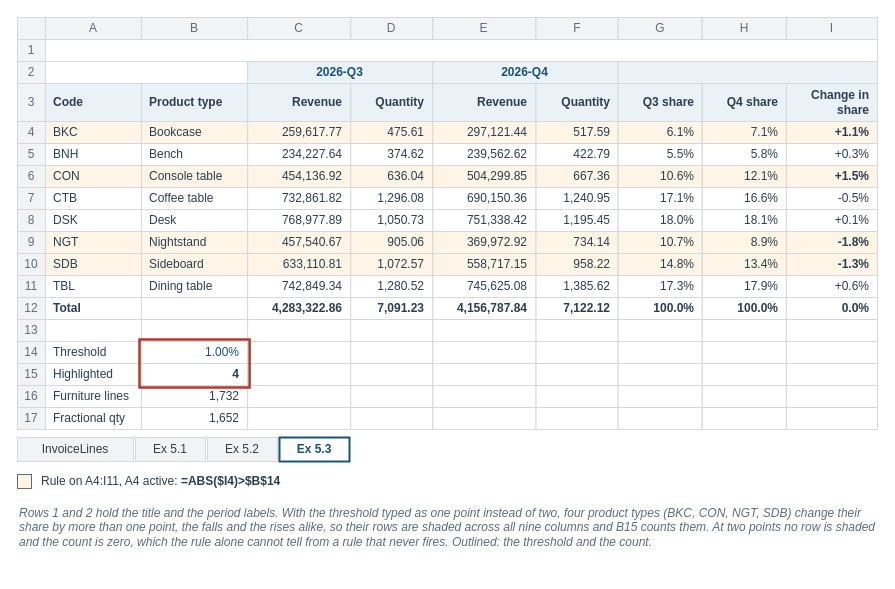
This 895x589 diagram has some shape labels left out. Here are the shapes that lost their labels. From the top down, the box of each, then its label:
(44, 38, 878, 62): Exercise 5.3: The Furniture Product Mix
(617, 60, 878, 84): Share of the Furniture total
